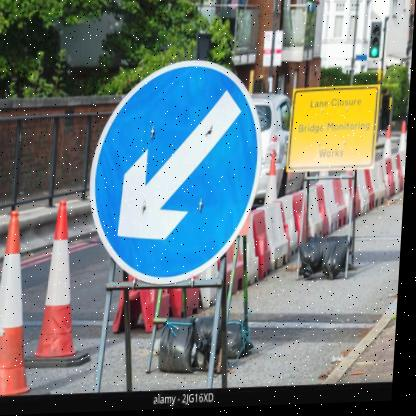Keep left: (86, 51, 269, 290)
